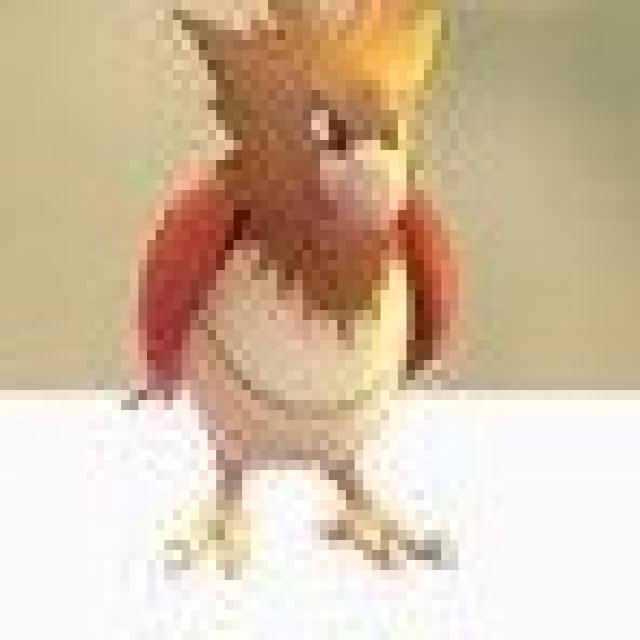Spearow: (119, 0, 519, 611)
